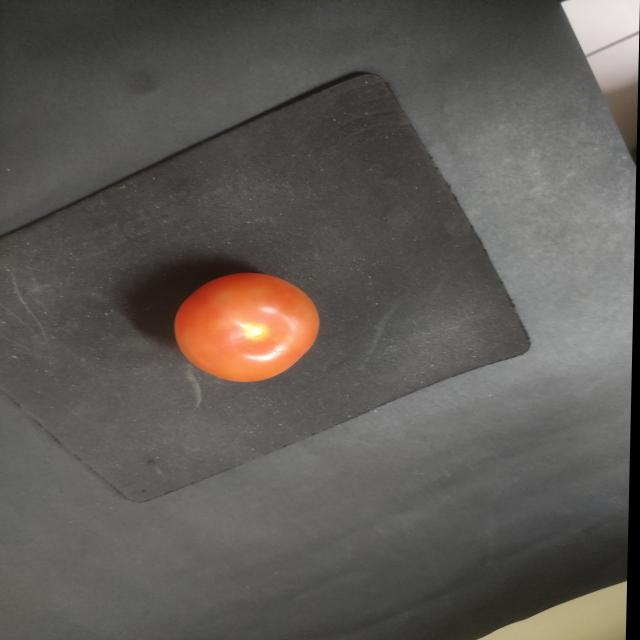sari: (165, 263, 331, 393)
